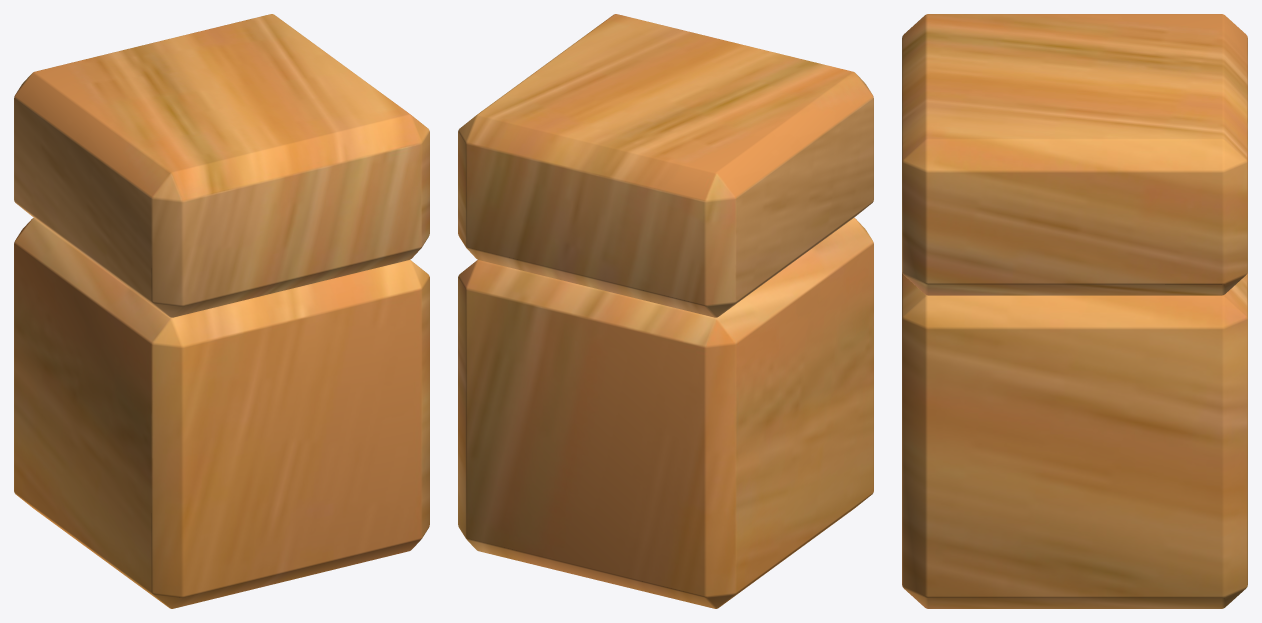
File: block3.fbx
3 renders of one model, left to right at view 1: azimuth 30°, elevation 25°; view 2: azimuth 150°, elevation 25°; view 3: azimuth 270°, elevation 25°, orthographic. The views are drawn at different scales.
Visible parts, largest first — view 1: block3; view 2: block3; view 3: block3.
Part boxes in pixels (left/top/right/bottom): block3: left=14, top=14, right=429, bottom=608; block3: left=458, top=14, right=873, bottom=608; block3: left=902, top=14, right=1247, bottom=608.
Size of the model in its own units: 200 by 300 by 200.
